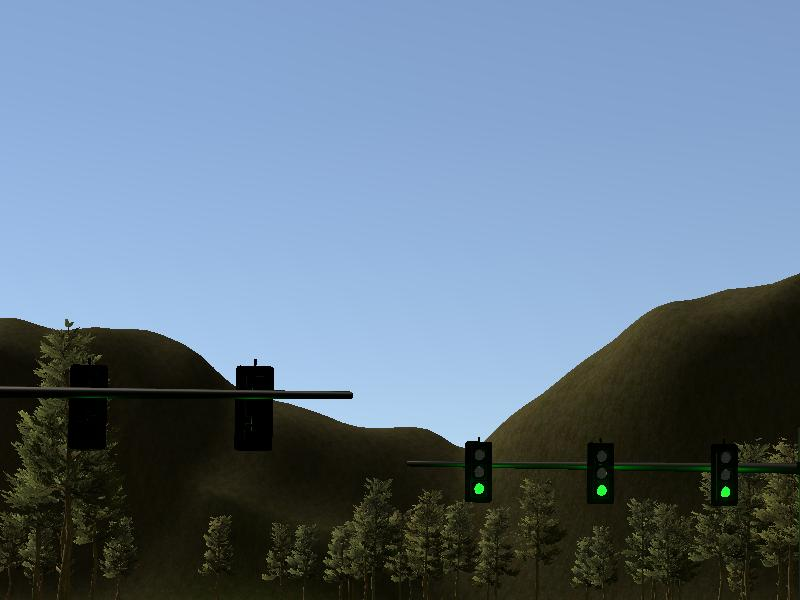Green: (464, 442, 493, 503), (586, 443, 613, 504), (713, 445, 740, 505)
